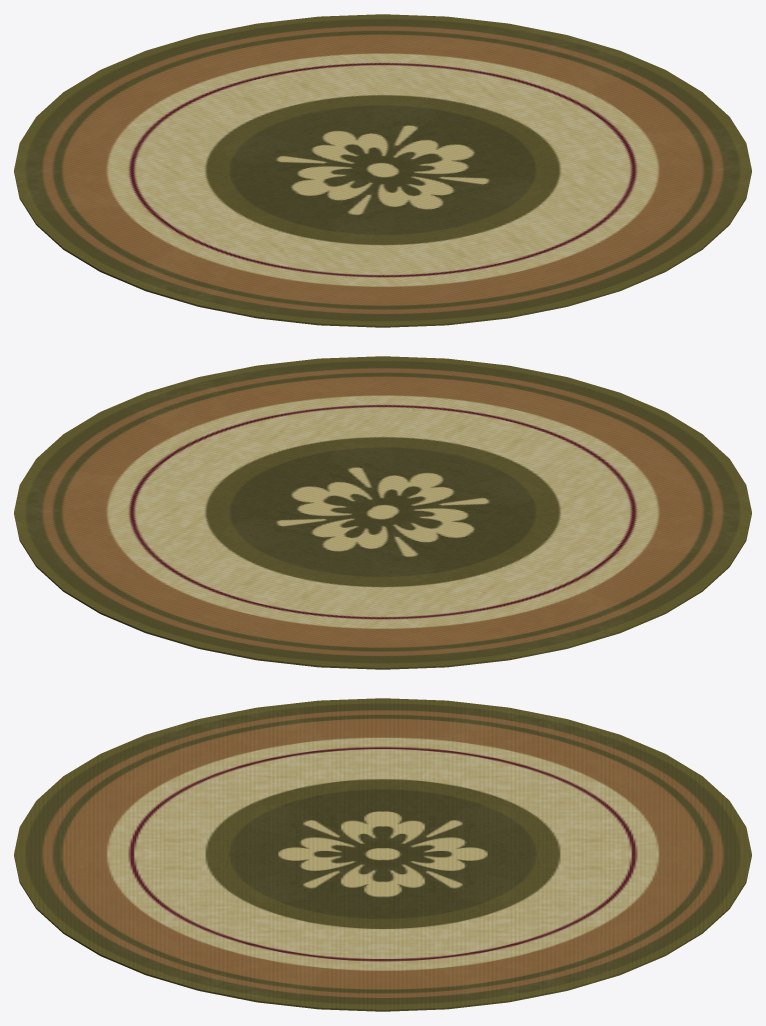
File: AIR0110006.fbx
3 renders of one model, top to bottom at view 1: azimuth 30°, elevation 25°; view 2: azimuth 150°, elevation 25°; view 3: azimuth 270°, elevation 25°, orthographic.
Visible parts, largest first — view 1: smAIR0110006; view 2: smAIR0110006; view 3: smAIR0110006.
Boxes of the visible parts, x1,y1,x2,y2 form: smAIR0110006: (14, 14, 751, 327); smAIR0110006: (14, 356, 751, 669); smAIR0110006: (14, 698, 751, 1011).
Size of the model in its own units: 275 by 0.6879 by 275.
1 material, 1 textured.
